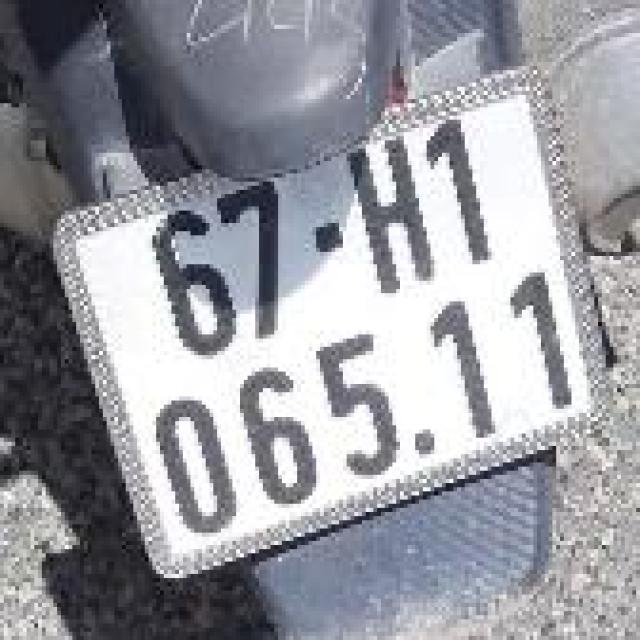0: (136, 379, 250, 549)
1: (411, 285, 514, 452), (415, 111, 509, 278), (494, 259, 590, 416)
5: (309, 320, 416, 490)
6: (138, 192, 254, 381), (223, 354, 333, 526)
7: (208, 176, 313, 350)
H: (334, 124, 451, 309)
